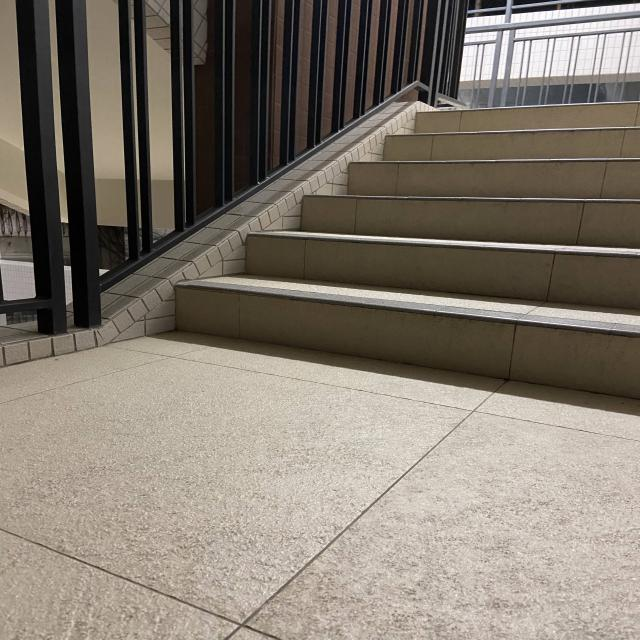Stairs: (138, 94, 640, 405)
